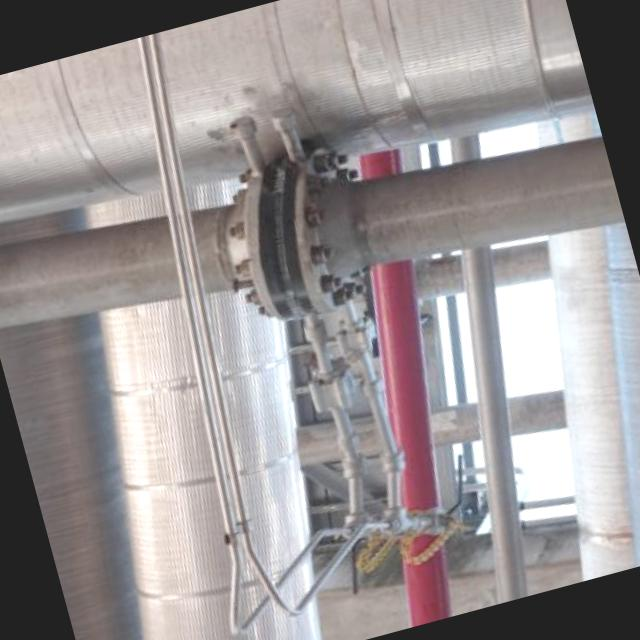gas: (0, 138, 625, 328), (374, 263, 448, 628), (457, 252, 530, 604)
